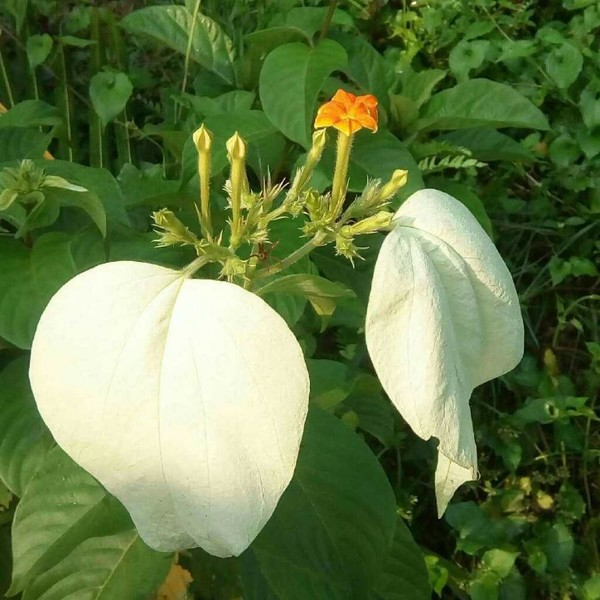obstacle: (56, 98, 520, 570)
